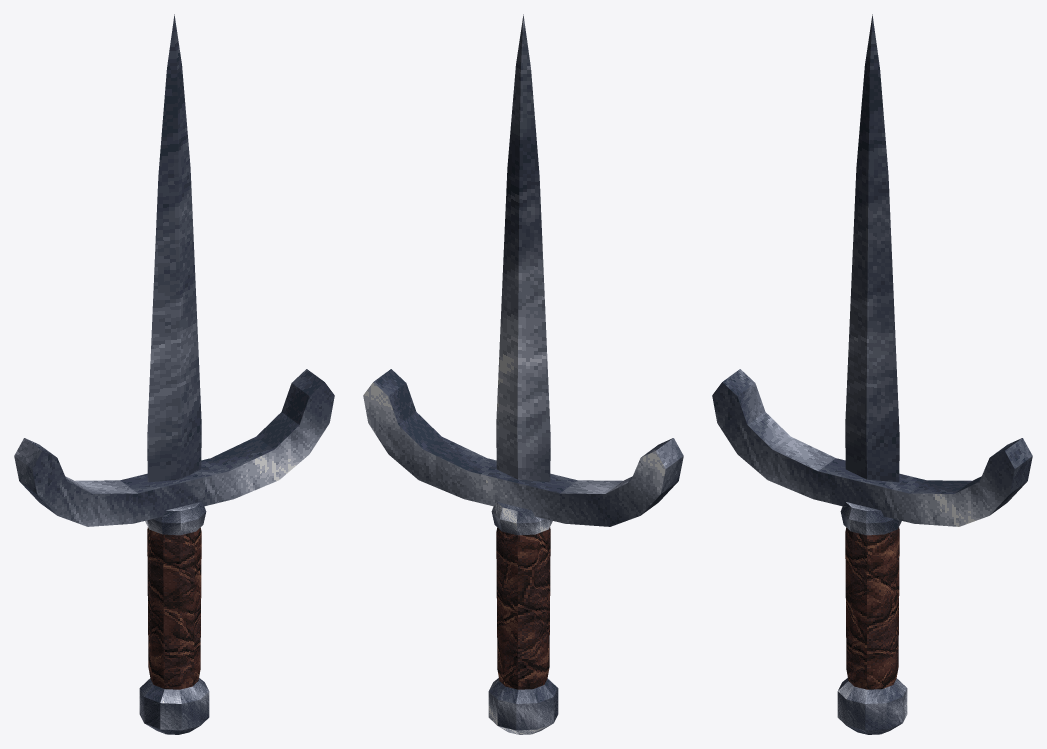
Rendered from main_gauche.glb.
3 views of the same model, side by side, from view 1: azimuth 30°, elevation 25°; view 2: azimuth 150°, elevation 25°; view 3: azimuth 330°, elevation 25° (orthographic).
Visible parts, largest first — view 1: Lâmina fina da main-gauche, Guarda voltada para a lâmina, Cabo de couro, Pomo, Anel superior; view 2: Lâmina fina da main-gauche, Guarda voltada para a lâmina, Cabo de couro, Pomo, Anel superior; view 3: Lâmina fina da main-gauche, Guarda voltada para a lâmina, Cabo de couro, Pomo, Anel superior.
Boxes of the visible parts, <box> form: Lâmina fina da main-gauche: <box>147,14,201,482</box>; Guarda voltada para a lâmina: <box>14,369,334,526</box>; Cabo de couro: <box>147,527,201,689</box>; Pomo: <box>139,678,209,734</box>; Anel superior: <box>145,502,206,535</box>; Lâmina fina da main-gauche: <box>496,14,550,482</box>; Guarda voltada para a lâmina: <box>363,369,683,526</box>; Cabo de couro: <box>496,527,550,689</box>; Pomo: <box>488,678,558,734</box>; Anel superior: <box>491,502,552,535</box>; Lâmina fina da main-gauche: <box>845,14,899,482</box>; Guarda voltada para a lâmina: <box>712,369,1032,526</box>; Cabo de couro: <box>845,527,899,689</box>; Pomo: <box>837,678,907,734</box>; Anel superior: <box>840,502,901,535</box>.
Size of the model in its own units: 0.6 by 1.35 by 0.1141.
Materials: 2 (2 with a texture image).
